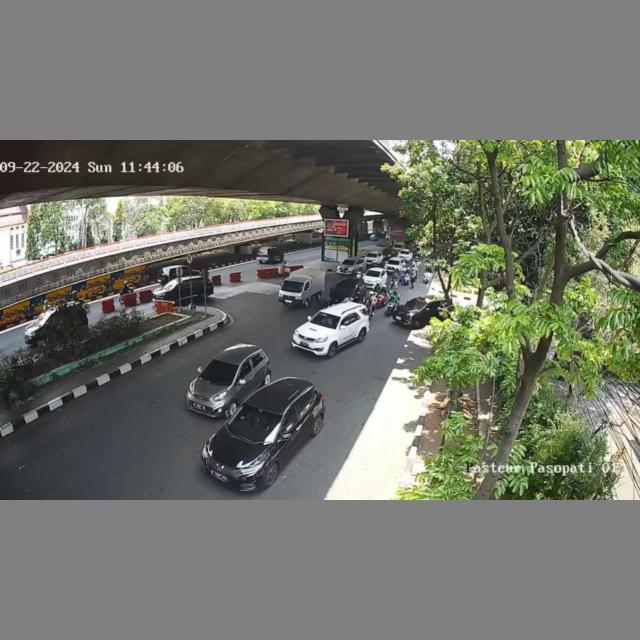windshield: (229, 403, 284, 442), (200, 358, 238, 385), (309, 311, 341, 328), (279, 280, 305, 292), (333, 283, 356, 295), (366, 270, 381, 278), (342, 259, 355, 266)
